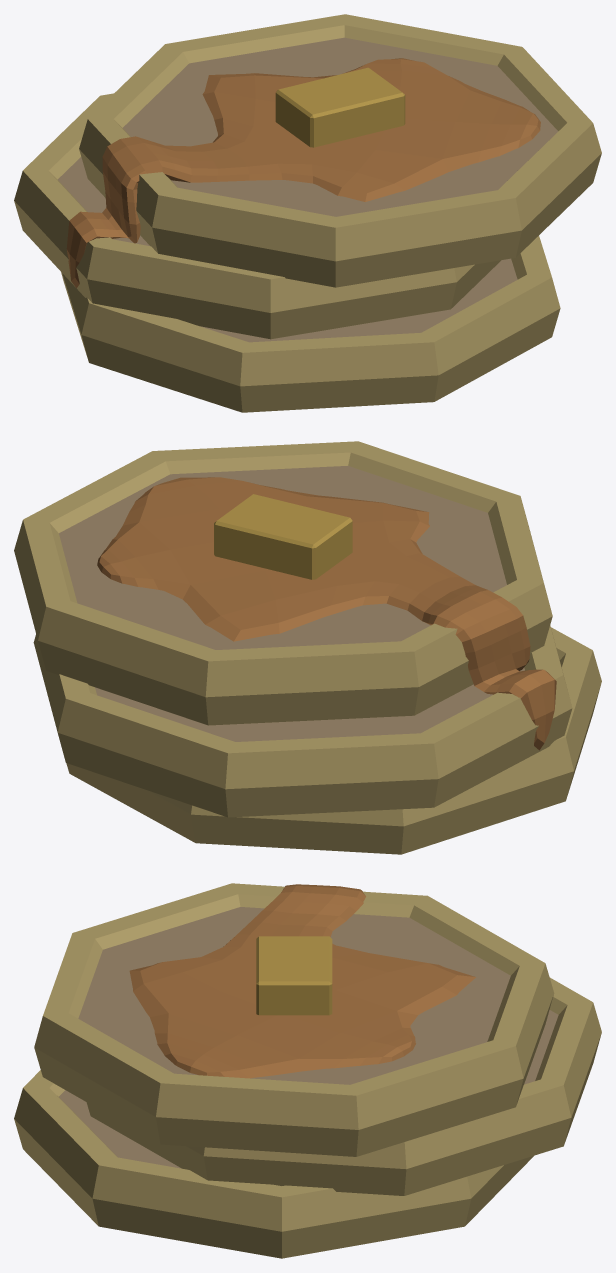
The model's file is pancakes.glb.
3 renders of one model, top to bottom at view 1: azimuth 30°, elevation 25°; view 2: azimuth 150°, elevation 25°; view 3: azimuth 270°, elevation 25°, orthographic. The views are drawn at different scales.
Parts seen in each view (by area): view 1: Pancakes_Stack; view 2: Pancakes_Stack; view 3: Pancakes_Stack.
Part boxes in pixels (x1,y1,x2,y2): Pancakes_Stack: (14, 14, 601, 412); Pancakes_Stack: (14, 441, 601, 854); Pancakes_Stack: (14, 883, 601, 1258).
Size of the model in its own units: 1.58 by 0.6375 by 1.62.
